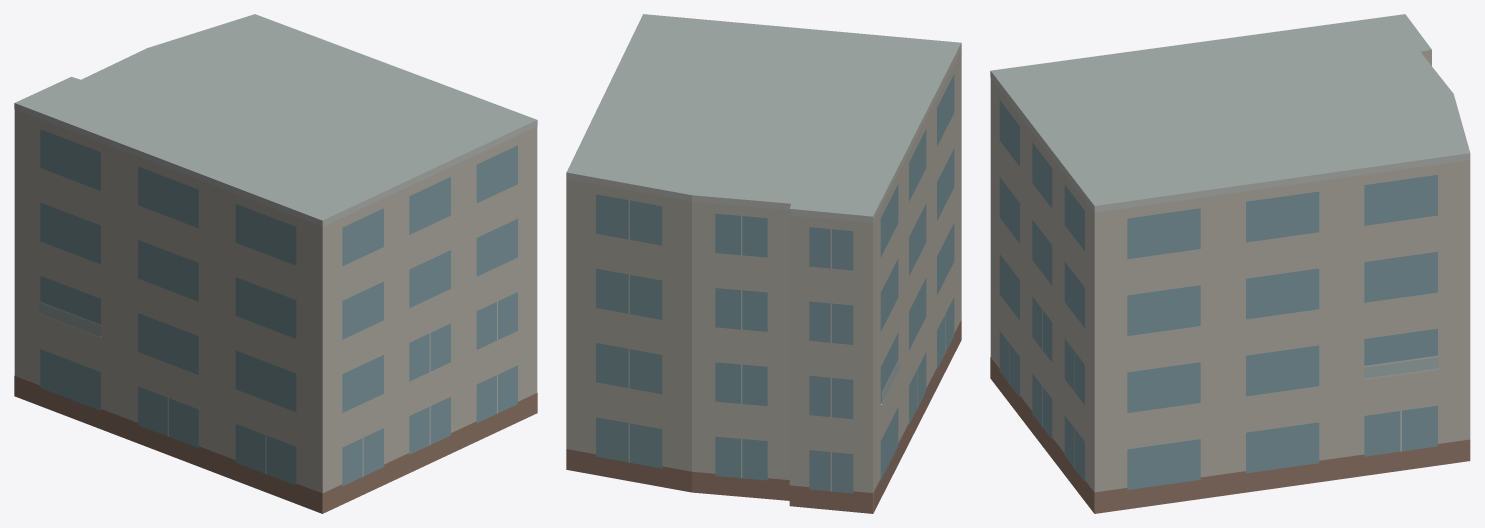
File: survey-upis-32689051.glb
3 renders of one model, left to right at view 1: azimuth 30°, elevation 25°; view 2: azimuth 150°, elevation 25°; view 3: azimuth 270°, elevation 25°, orthographic. The views are drawn at different scales.
Parts seen in each view (by area): view 1: survey-upis-32689051.tmp; view 2: survey-upis-32689051.tmp; view 3: survey-upis-32689051.tmp.
Boxes of the visible parts, x1=… form: survey-upis-32689051.tmp: x1=14, y1=14, x2=537, y2=513; survey-upis-32689051.tmp: x1=566, y1=14, x2=961, y2=513; survey-upis-32689051.tmp: x1=990, y1=14, x2=1470, y2=513.
Bounding box in the file's own units: 15 × 11.2 × 15.84.
